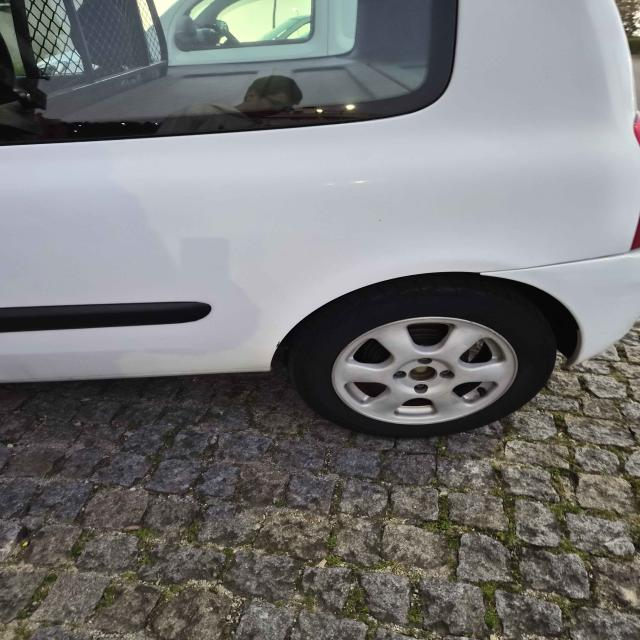jante: (332, 317, 518, 425)
parafuso: (412, 382, 430, 395), (436, 370, 456, 380), (390, 370, 408, 380), (417, 356, 434, 366)
roda: (286, 275, 558, 444)
